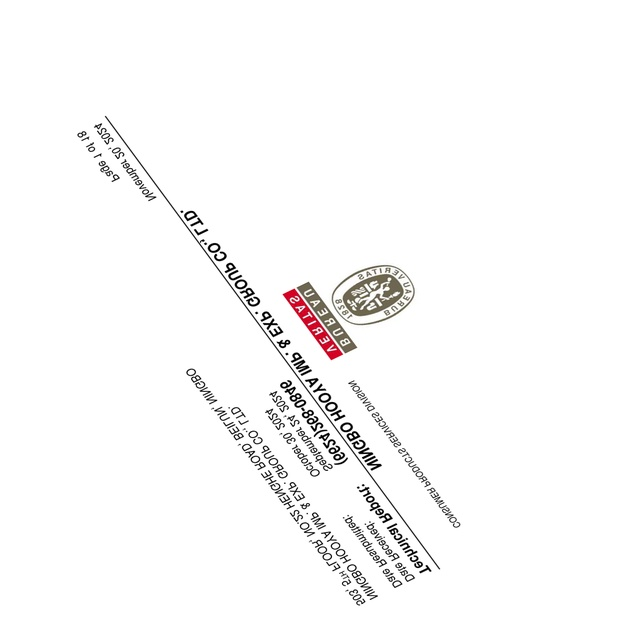bureau_veritas: (282, 263, 417, 363)
